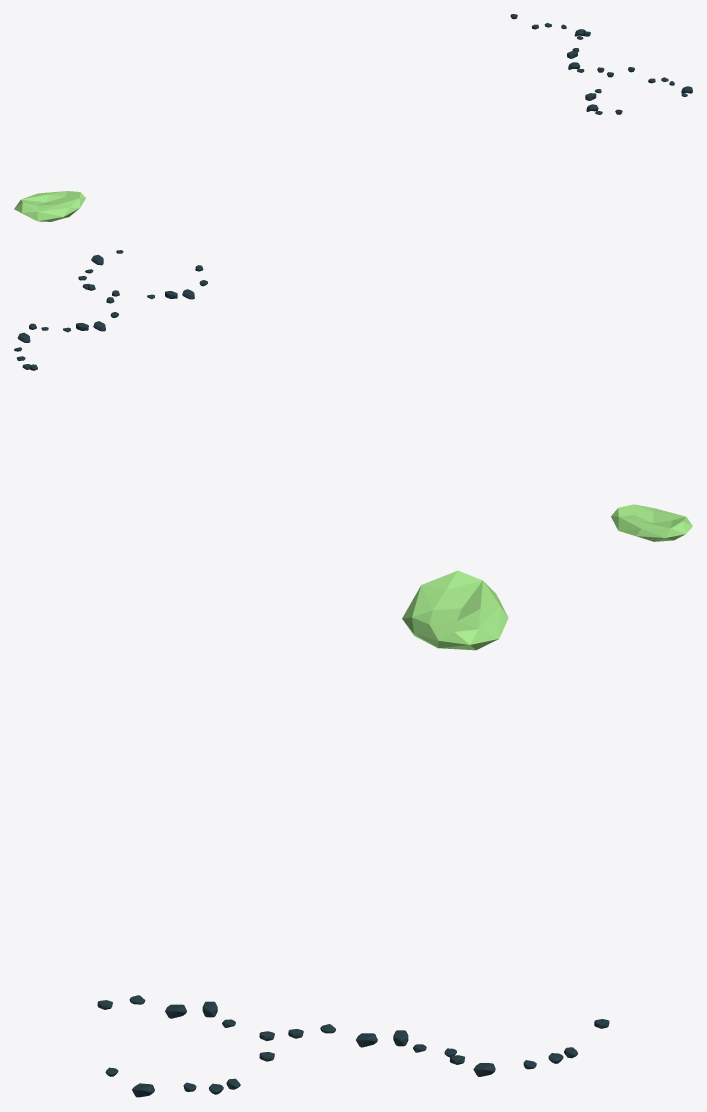
Rendered from rock1.gltf.
3 views of the same model, one above another, from view 1: azimuth 30°, elevation 25°; view 2: azimuth 150°, elevation 25°; view 3: azimuth 270°, elevation 25° (orthographic). The views are drawn at different scales.
Visible parts, largest first — view 1: Icosphere; view 2: Icosphere; view 3: Icosphere.
Part boxes in pixels (x1=…): Icosphere: x1=14, y1=191, x2=85, y2=221; Icosphere: x1=611, y1=504, x2=692, y2=541; Icosphere: x1=402, y1=570, x2=508, y2=650.
Size of the model in its own units: 138 by 11.64 by 51.19.
